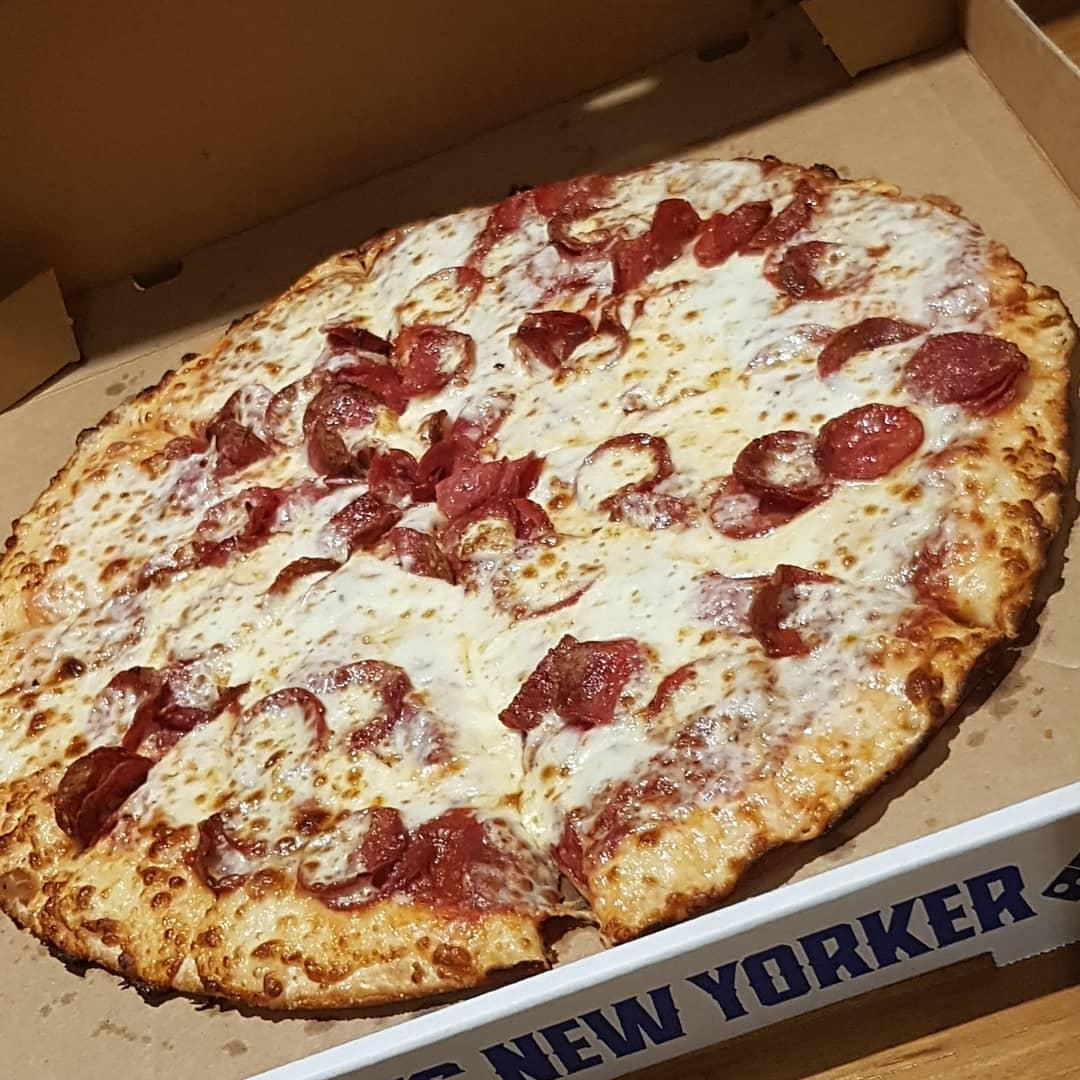Pepperoni: (490, 623, 663, 748), (297, 795, 439, 908), (48, 739, 162, 861), (744, 553, 860, 672), (187, 796, 313, 898), (401, 799, 503, 916), (907, 322, 1030, 417), (805, 397, 930, 488), (407, 389, 509, 499), (483, 532, 608, 615), (547, 787, 637, 900), (806, 307, 934, 385), (730, 426, 846, 512), (305, 381, 402, 479), (327, 656, 423, 754), (611, 183, 700, 288), (234, 682, 332, 776), (378, 315, 485, 400), (636, 650, 734, 742), (598, 458, 728, 525), (432, 446, 556, 515), (322, 322, 413, 414), (688, 558, 779, 649), (568, 432, 678, 507), (771, 230, 878, 305), (731, 177, 830, 256), (702, 471, 808, 544), (187, 482, 281, 562), (391, 253, 484, 329), (96, 658, 169, 748), (321, 485, 413, 555), (476, 186, 538, 279), (699, 193, 764, 274), (255, 544, 357, 595), (533, 162, 618, 220), (160, 672, 254, 722), (263, 374, 323, 452), (204, 385, 269, 456), (554, 201, 615, 254)
Pizza: (0, 150, 1080, 1013)
